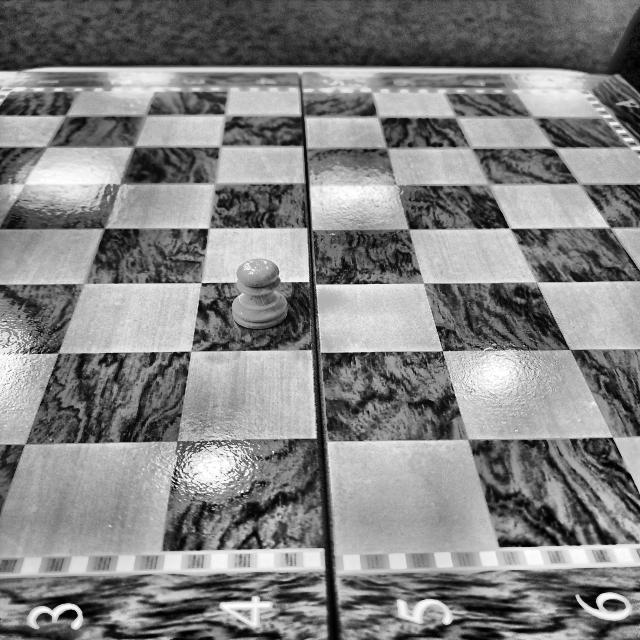white-pawn: (231, 259, 288, 330)
